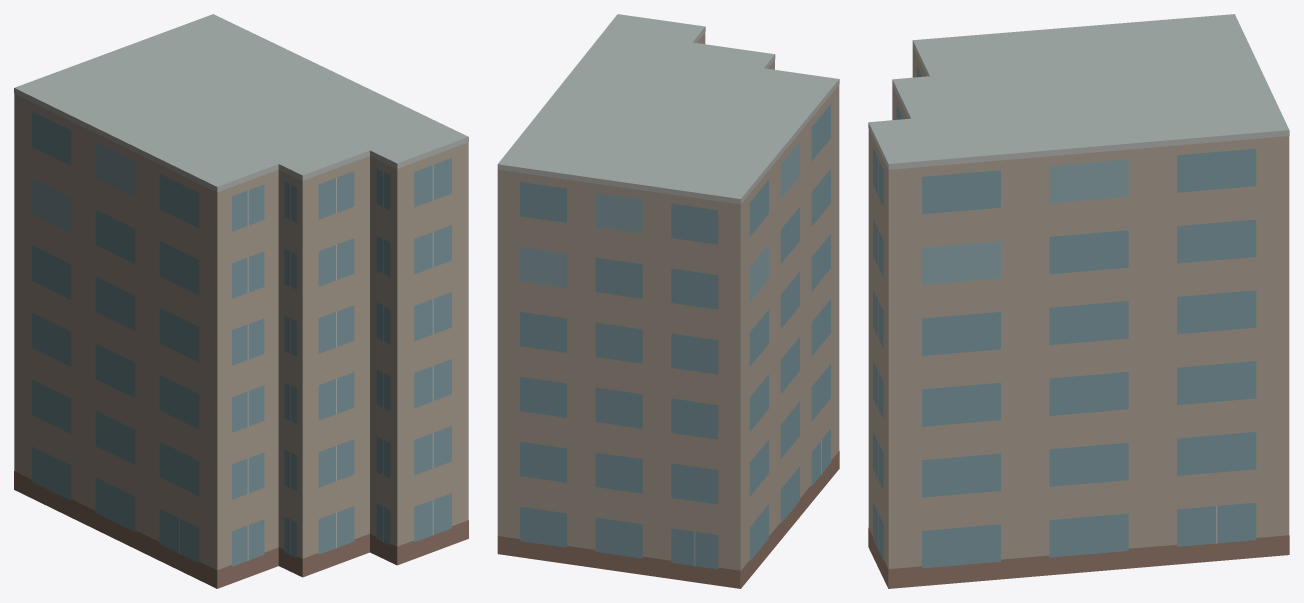
The model's file is survey-upis-33041322.glb.
3 views of the same model, side by side, from view 1: azimuth 30°, elevation 25°; view 2: azimuth 150°, elevation 25°; view 3: azimuth 270°, elevation 25° (orthographic). The views are drawn at different scales.
Visible parts, largest first — view 1: survey-upis-33041322.tmp; view 2: survey-upis-33041322.tmp; view 3: survey-upis-33041322.tmp.
Boxes of the visible parts, x1,y1,x2,y2 form: survey-upis-33041322.tmp: (14, 14, 468, 588); survey-upis-33041322.tmp: (497, 14, 839, 588); survey-upis-33041322.tmp: (868, 14, 1289, 588).
Size of the model in its own units: 13.41 by 17.7 by 15.91.
